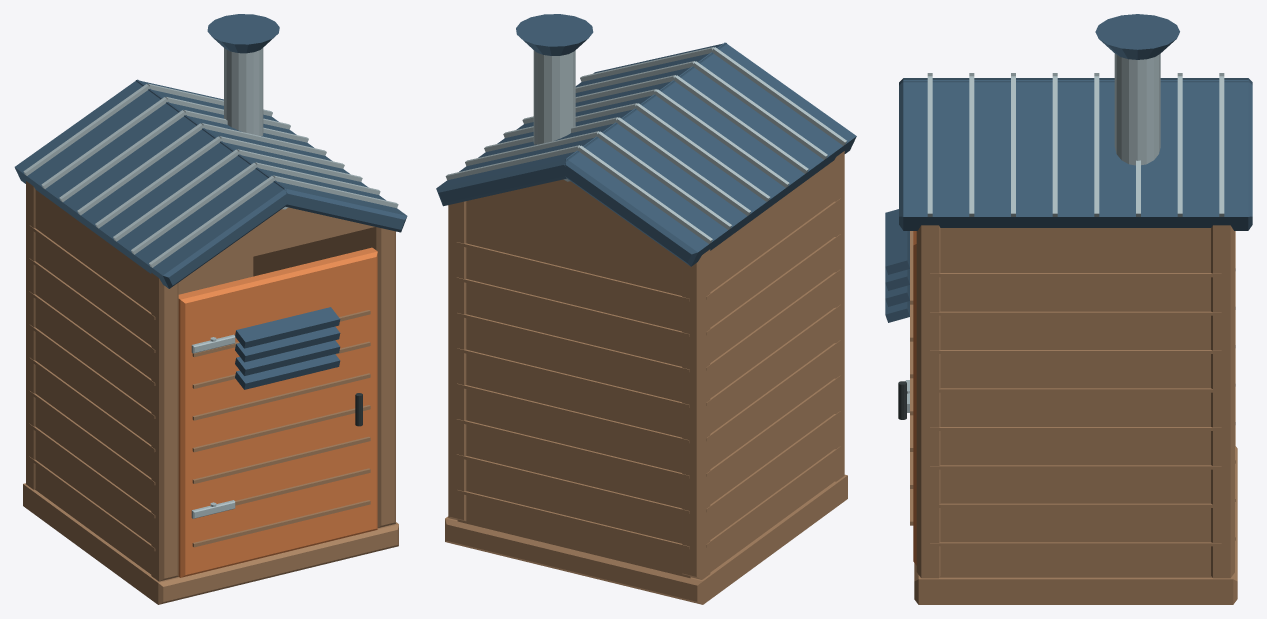
The model's file is harbor-and-tackle-smokehouse-d36c57aa__19546.glb.
3 renders of one model, left to right at view 1: azimuth 30°, elevation 25°; view 2: azimuth 150°, elevation 25°; view 3: azimuth 270°, elevation 25°, orthographic. The views are drawn at different scales.
Parts seen in each view (by area): view 1: cedar, orange, navy, metal; view 2: cedar, navy, metal; view 3: cedar, navy, metal, orange.
Boxes of the visible parts, x1=… form: cedar: x1=23, y1=181, x2=398, y2=604; orange: x1=178, y1=247, x2=377, y2=577; navy: x1=14, y1=14, x2=407, y2=389; metal: x1=23, y1=48, x2=398, y2=518; cedar: x1=445, y1=151, x2=847, y2=604; navy: x1=436, y1=14, x2=856, y2=266; metal: x1=445, y1=47, x2=846, y2=243; cedar: x1=910, y1=225, x2=1237, y2=604; navy: x1=885, y1=14, x2=1252, y2=322; metal: x1=905, y1=53, x2=1224, y2=412; orange: x1=913, y1=231, x2=916, y2=565.
Size of the model in its own units: 1.88 by 3.36 by 2.08.
